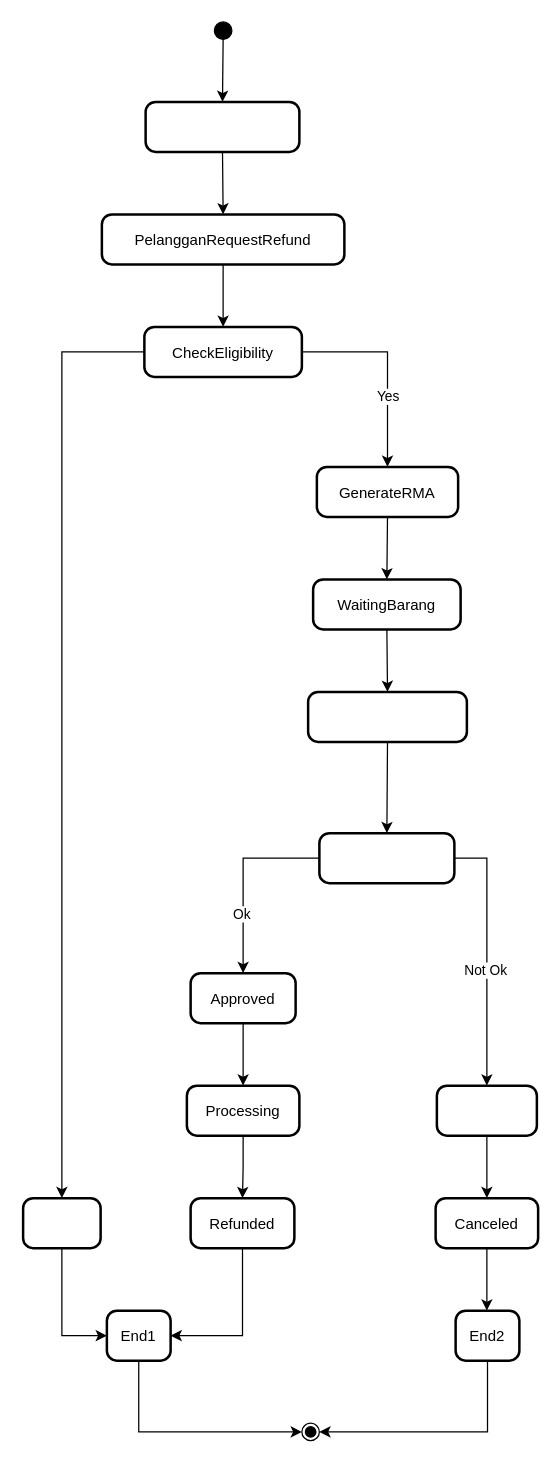
This 560x1464 diagram has some shape labels left out. The centre of each missing label's shape, as x and y in pixels:
"BarangDiterima" goes at point (387, 716).
"PesananSelesai" goes at point (222, 126).
"Reject" goes at point (61, 1222).
"Rejected" goes at point (486, 1110).
"VerifyKondisi" goes at point (386, 857).
